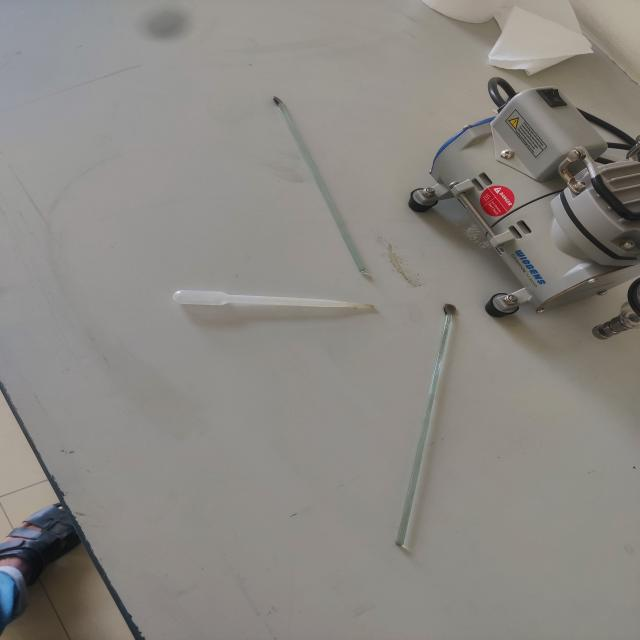Glass_Rod: (347, 261, 504, 567), (270, 79, 394, 286)
Pipette: (154, 266, 401, 343)
